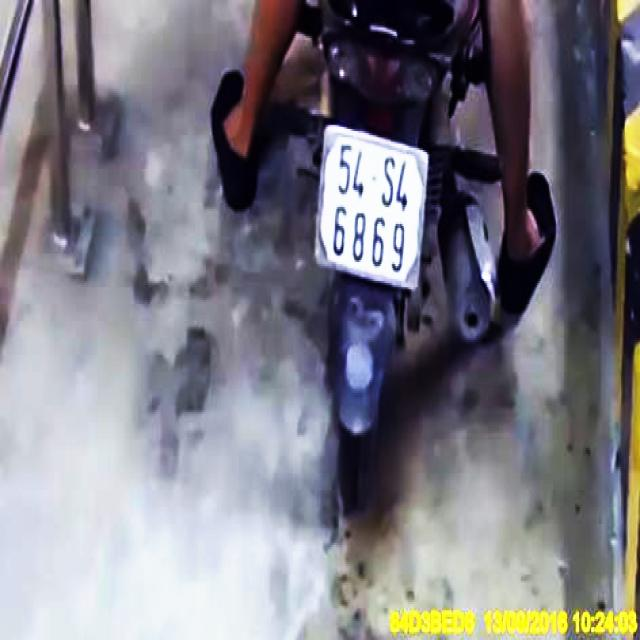license_plate: (317, 129, 429, 290)
